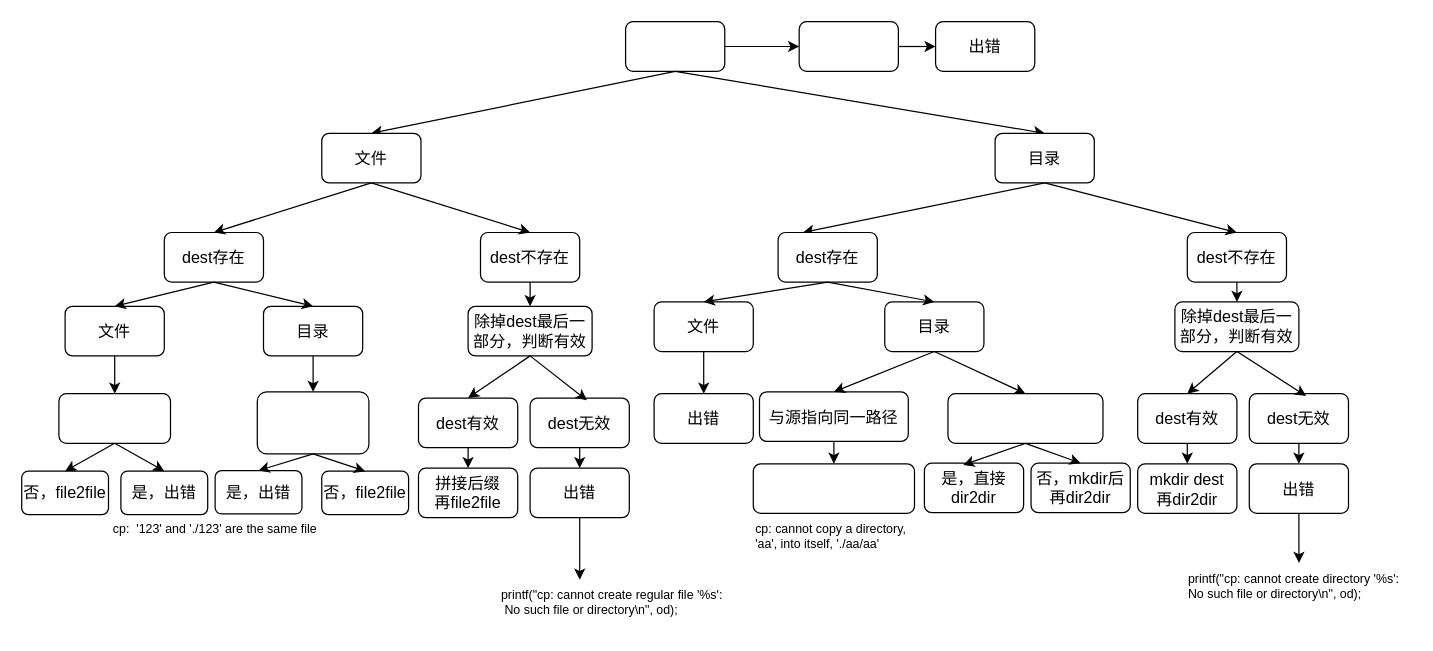
The diagram is 1433 pixels wide and 651 high, and some of its shapes have lost their labels. The box of each missing label's shape, as (x1, y1, x2, y2) in pixels:
判断是否与源指向同一文件: (58, 392, 170, 443)
报提示但不出错 自动拼接后缀再dir2dir: (752, 463, 914, 513)
拼接后缀 判断新路径是否存在: (947, 392, 1103, 443)
拼接后缀，判断是否与源指向同一文件: (256, 391, 369, 454)
源不存在: (798, 20, 898, 71)
源路径: (624, 20, 725, 71)
